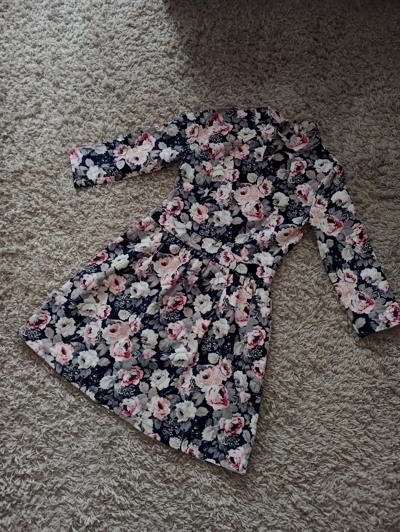Dress: (12, 80, 400, 481)
